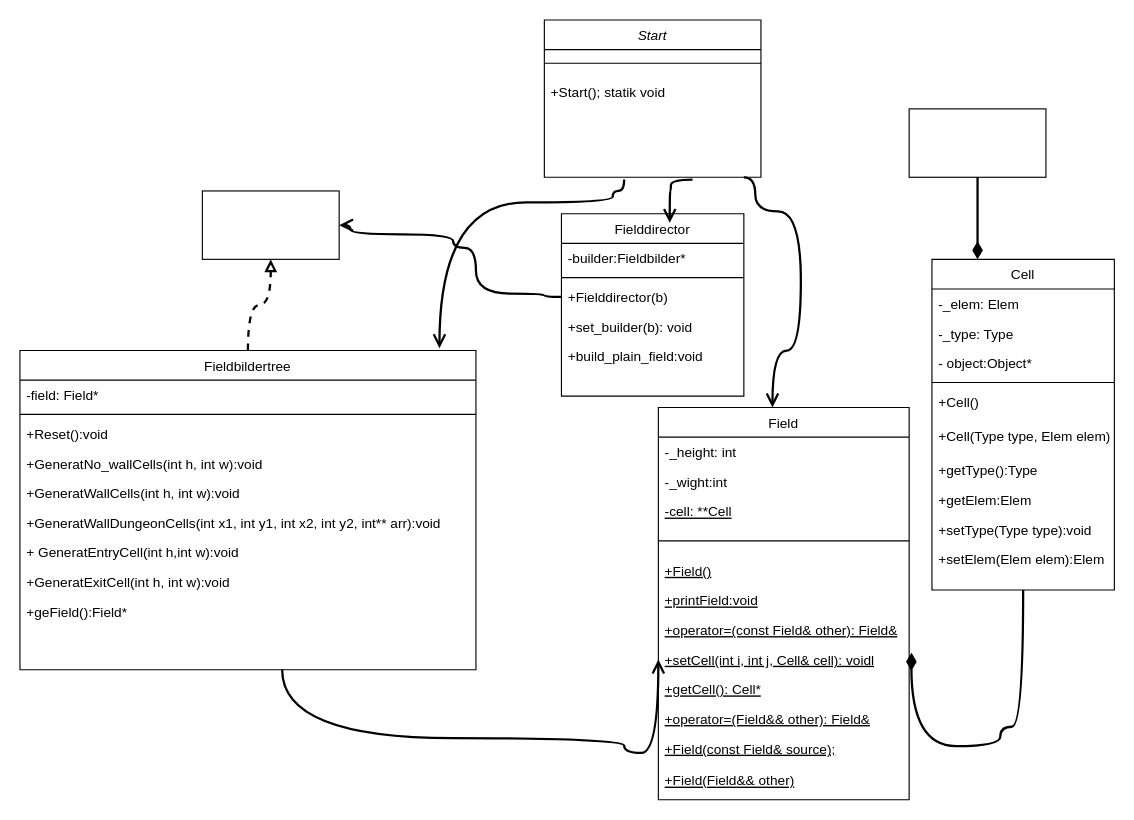
The diagram is 1134 pixels wide and 820 high, and some of its shapes have lost their labels. The shapes that lost their labels are listed below. From the top down, each one's centre as x and y in pixels, then its label:
point 977,142: <<Interface>> Object
point 270,224: <<Interface>> Fieldbilder
